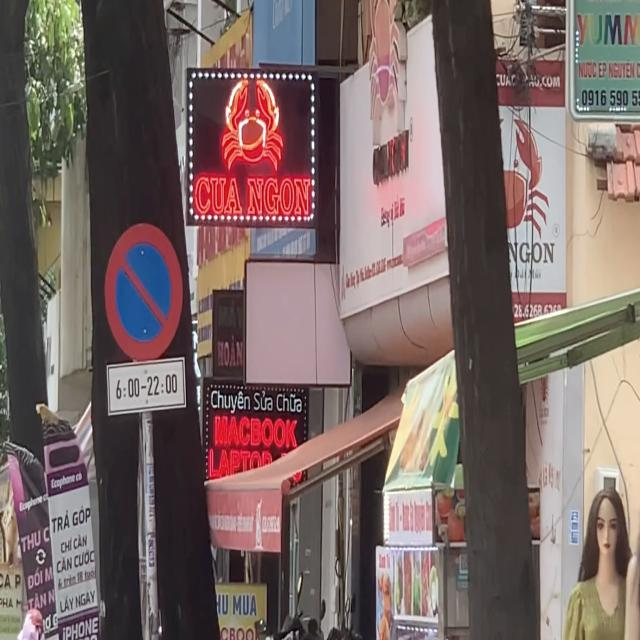Cam do: (104, 223, 183, 361)
